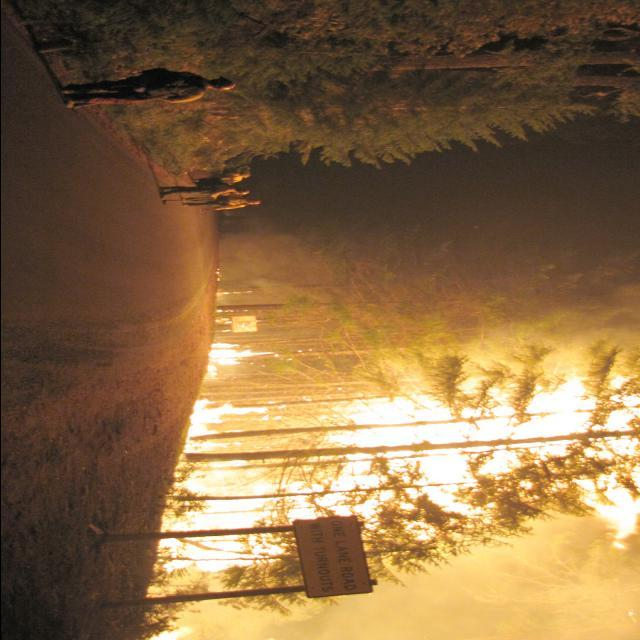Fire: (167, 342, 640, 590)
